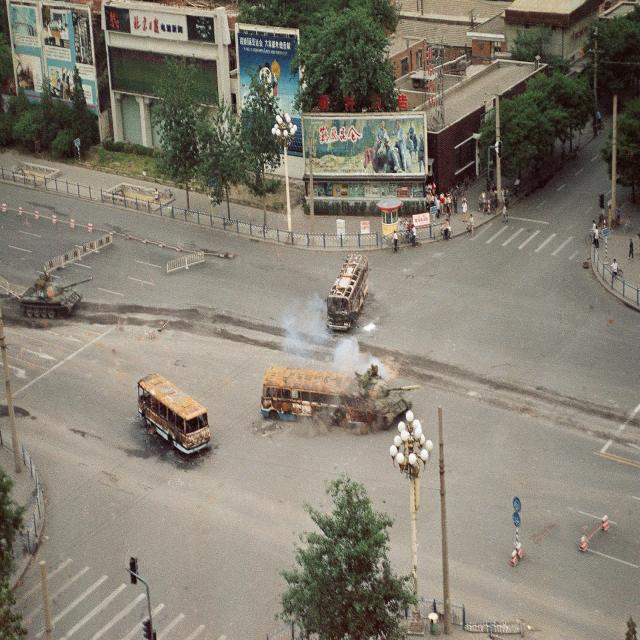tank: (343, 361, 425, 430), (19, 269, 96, 321)
